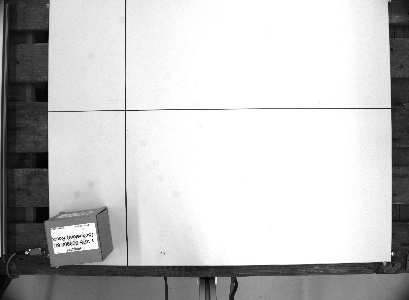b5: (41, 205, 115, 268)
